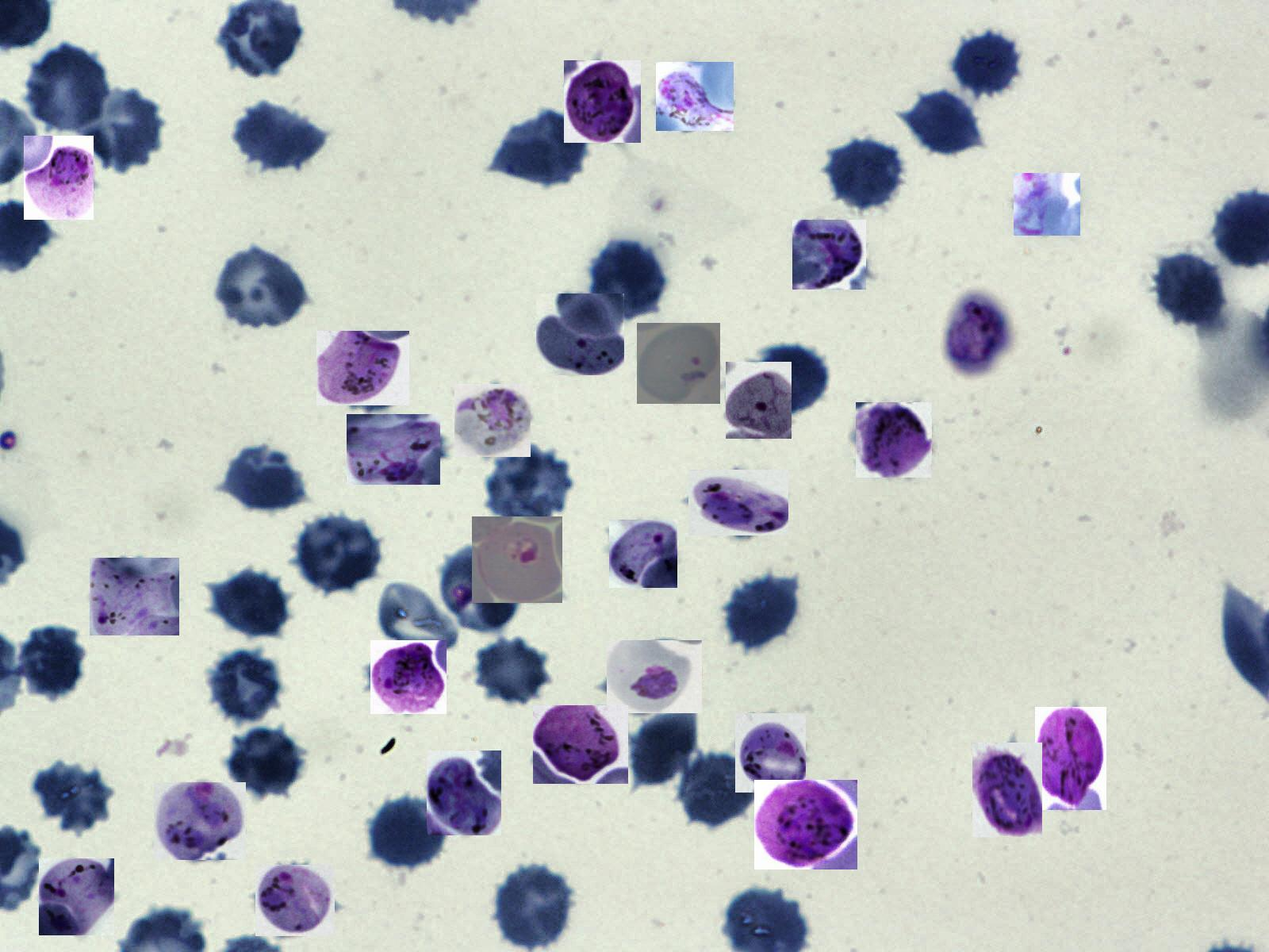Infected: (755, 780, 857, 869), (472, 516, 562, 603), (533, 705, 628, 784), (1035, 707, 1106, 810), (155, 782, 247, 860), (536, 294, 624, 375), (607, 640, 702, 713), (316, 331, 409, 405), (90, 558, 179, 635), (637, 323, 720, 404), (941, 290, 1017, 378), (347, 414, 440, 485), (688, 470, 788, 536), (972, 743, 1042, 837), (564, 60, 641, 143), (427, 750, 501, 835), (24, 136, 94, 220), (856, 402, 932, 478), (39, 858, 114, 935), (370, 640, 447, 714), (255, 865, 335, 936), (735, 713, 806, 793), (454, 384, 531, 457), (656, 62, 734, 131), (792, 220, 866, 290), (727, 362, 792, 439), (609, 520, 677, 588), (1014, 173, 1080, 236)
Uninfected: (212, 245, 310, 331), (677, 749, 767, 834), (439, 547, 525, 634), (26, 43, 110, 132), (79, 86, 165, 169), (295, 512, 382, 592), (236, 100, 330, 173), (496, 863, 576, 948), (497, 111, 587, 185), (485, 449, 575, 523), (588, 238, 668, 321), (209, 566, 290, 642), (627, 703, 696, 791), (228, 725, 306, 802), (727, 571, 804, 649), (951, 23, 1026, 103), (378, 581, 460, 654), (829, 133, 905, 209), (207, 649, 284, 724), (371, 797, 450, 869), (1153, 250, 1225, 329), (33, 758, 109, 830), (474, 635, 553, 704), (220, 446, 306, 509), (18, 623, 88, 698), (903, 89, 982, 155), (755, 346, 829, 413)
